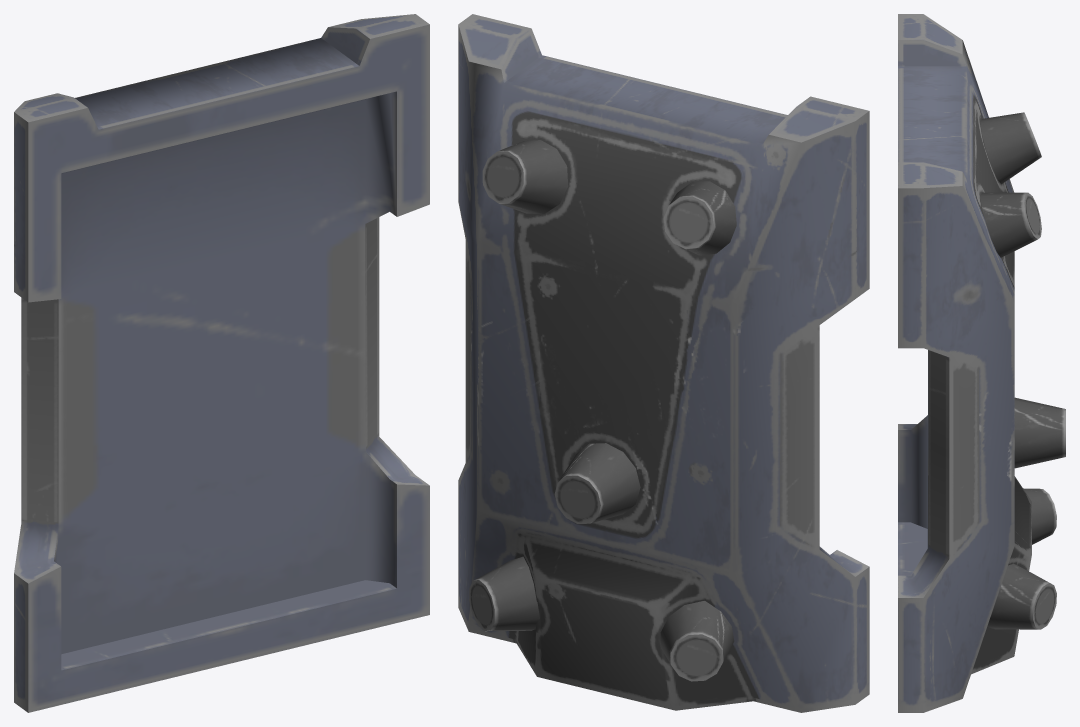
File: Pfb_Soda_Shield.fbx
3 views of the same model, side by side, from view 1: azimuth 30°, elevation 25°; view 2: azimuth 150°, elevation 25°; view 3: azimuth 270°, elevation 25° (orthographic). The views are drawn at different scales.
Parts seen in each view (by area): view 1: SodaShieldBoss; view 2: SodaShieldBoss; view 3: SodaShieldBoss.
Part boxes in pixels (box(x1,y1,x2,y2)): SodaShieldBoss: box(14, 14, 429, 712); SodaShieldBoss: box(458, 14, 869, 712); SodaShieldBoss: box(898, 14, 1065, 712).
Size of the model in its own units: 0.1221 by 0.1717 by 0.0497.
1 material, 1 textured.
